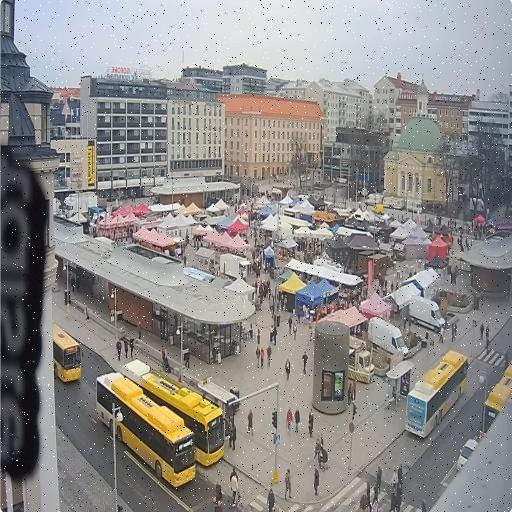bus: (95, 373, 194, 487), (122, 360, 223, 466), (405, 351, 467, 437), (480, 363, 511, 439), (52, 323, 80, 382)
car: (457, 439, 478, 471)
delivery: (368, 318, 407, 358), (408, 297, 445, 332), (348, 337, 373, 383)
